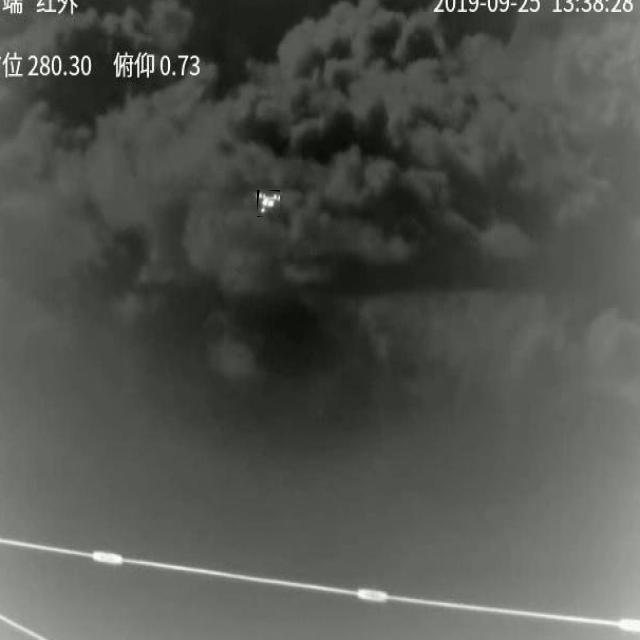drone: (257, 190, 280, 217)
